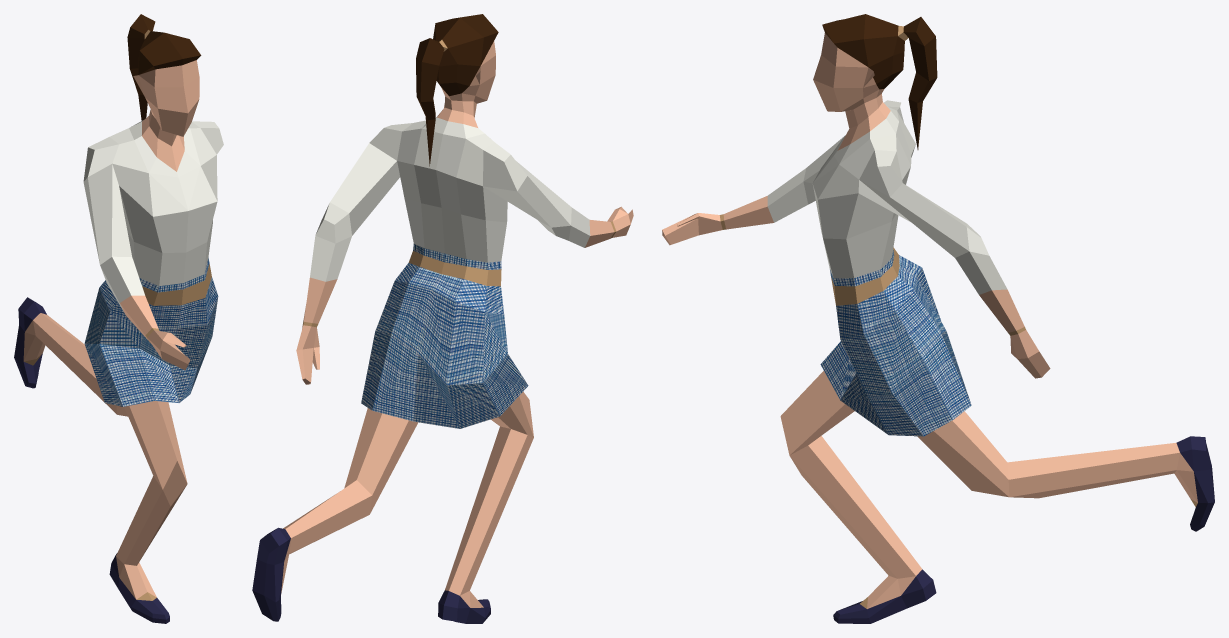
File: SpringWomanB.005.glb
The picture shows the model from 3 angles, left to right: view 1: azimuth 30°, elevation 25°; view 2: azimuth 150°, elevation 25°; view 3: azimuth 270°, elevation 25°; orthographic projection. The views are drawn at different scales.
Visible parts, largest first — view 1: SpringWomanB.006; view 2: SpringWomanB.006; view 3: SpringWomanB.006.
Boxes of the visible parts, left/top/right/bottom form: SpringWomanB.006: left=14, top=14, right=223, bottom=623; SpringWomanB.006: left=252, top=14, right=633, bottom=623; SpringWomanB.006: left=662, top=14, right=1214, bottom=623.
Size of the model in its own units: 0.4756 by 1.53 by 1.25.
Materials: 1 (1 with a texture image).
